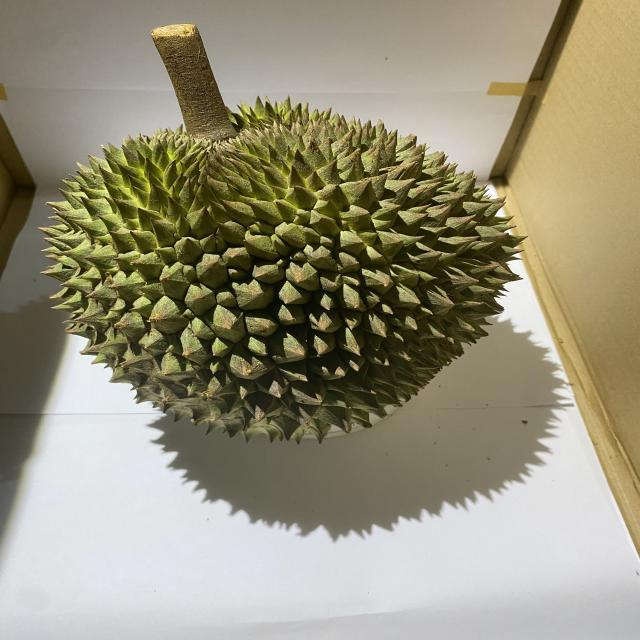immature: (41, 93, 530, 447)
